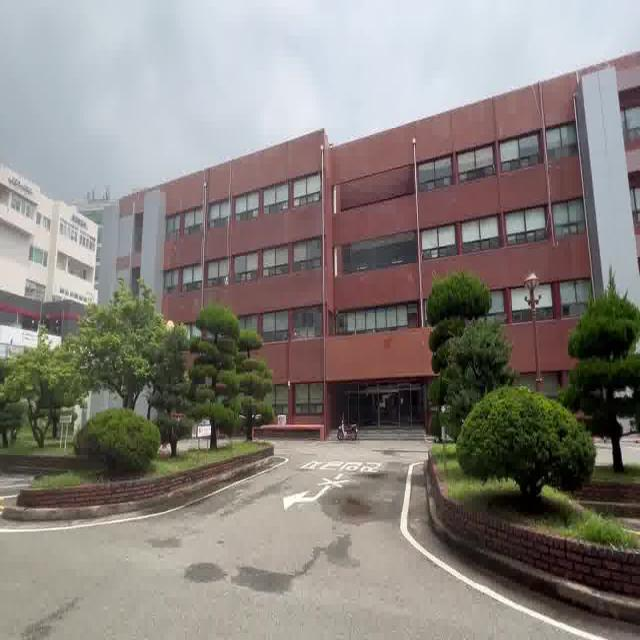building: (255, 139, 424, 423)
